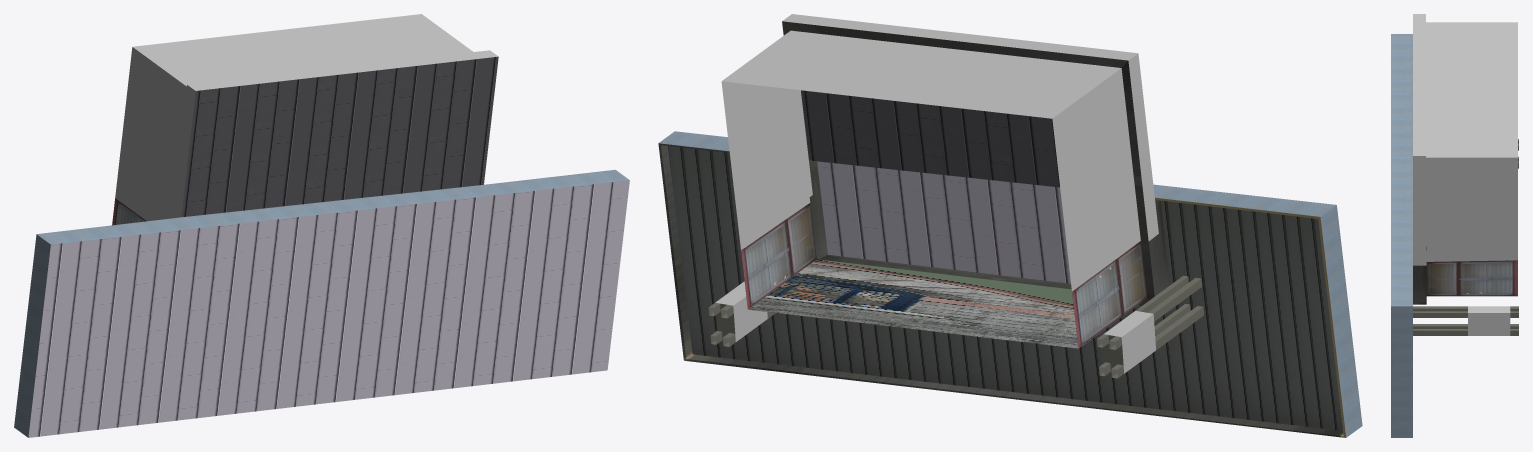
File: Vabaduse_valjak_1a.obj
3 renders of one model, left to right at view 1: azimuth 30°, elevation 25°; view 2: azimuth 150°, elevation 25°; view 3: azimuth 270°, elevation 25°, orthographic. The views are drawn at different scales.
Visible parts, largest first — view 1: polySurface1; view 2: polySurface1; view 3: polySurface1.
Part boxes in pixels (<box>): polySurface1: <box>14,14,629,437</box>; polySurface1: <box>658,14,1362,437</box>; polySurface1: <box>1391,14,1518,437</box>.
Size of the model in its own units: 14.63 by 8.51 by 3.55.
